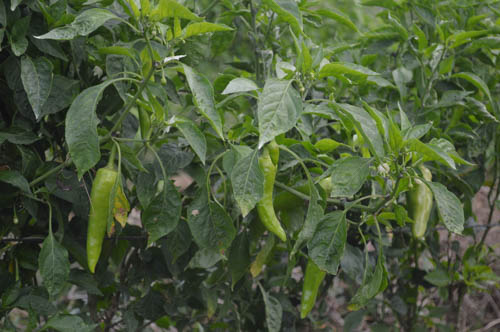ChiliPepper: (84, 168, 116, 279), (256, 158, 286, 243), (404, 178, 432, 235), (298, 259, 324, 319)
